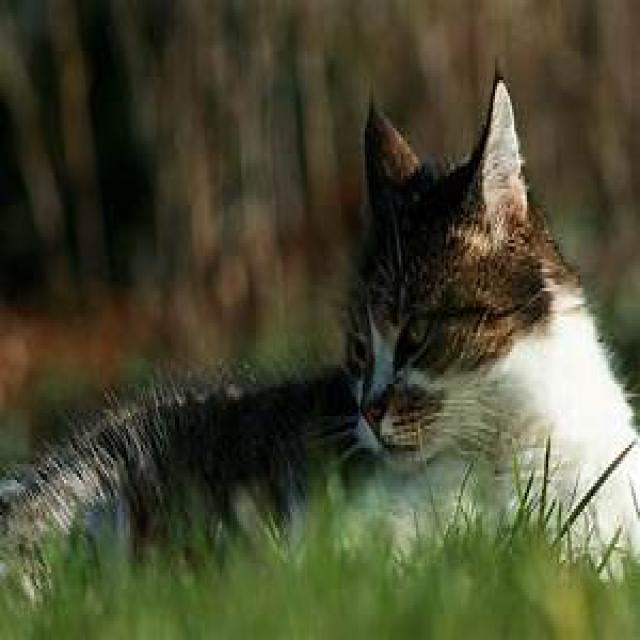cat: (0, 70, 638, 593)
